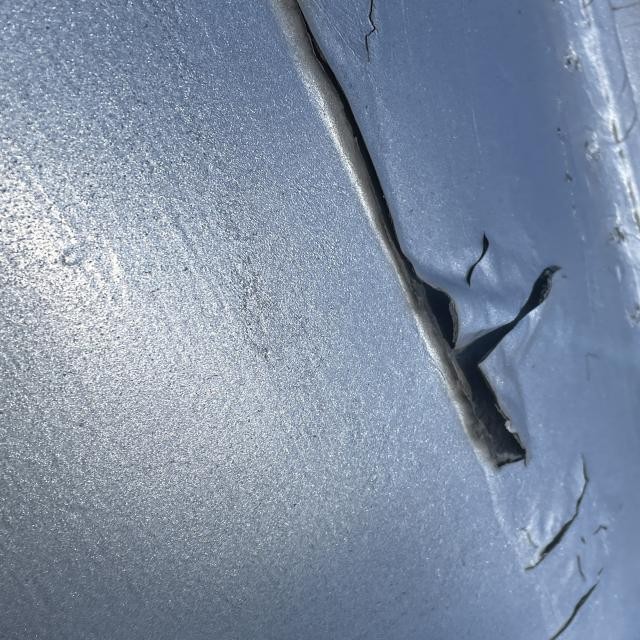crack: (518, 481, 591, 570), (344, 14, 399, 59), (463, 241, 503, 290)
